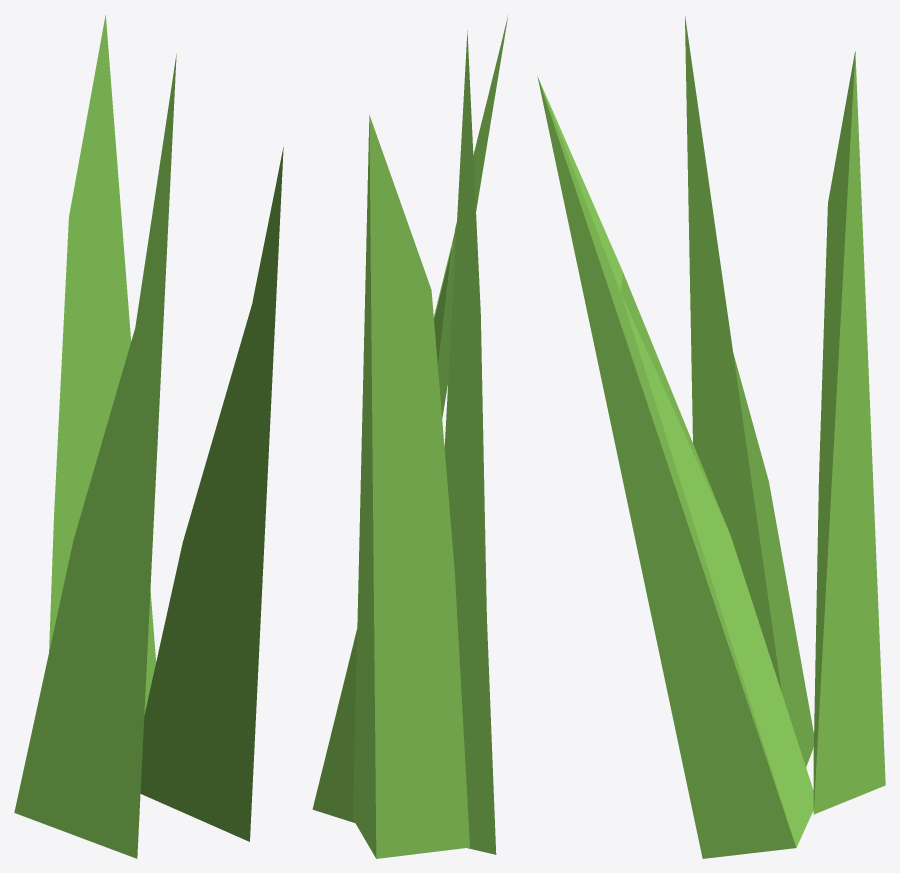
Rendered from low_poly_grass_tuft.glb.
3 views of the same model, side by side, from view 1: azimuth 30°, elevation 25°; view 2: azimuth 150°, elevation 25°; view 3: azimuth 270°, elevation 25° (orthographic). The views are drawn at different scales.
Parts seen in each view (by area): view 1: Grass_0; view 2: Grass_0; view 3: Grass_0.
Boxes of the visible parts, <box> form: Grass_0: <box>14,15,283,858</box>; Grass_0: <box>312,15,508,858</box>; Grass_0: <box>537,16,885,858</box>.
Bounding box in the file's own units: 1.43 × 5.55 × 2.18.
